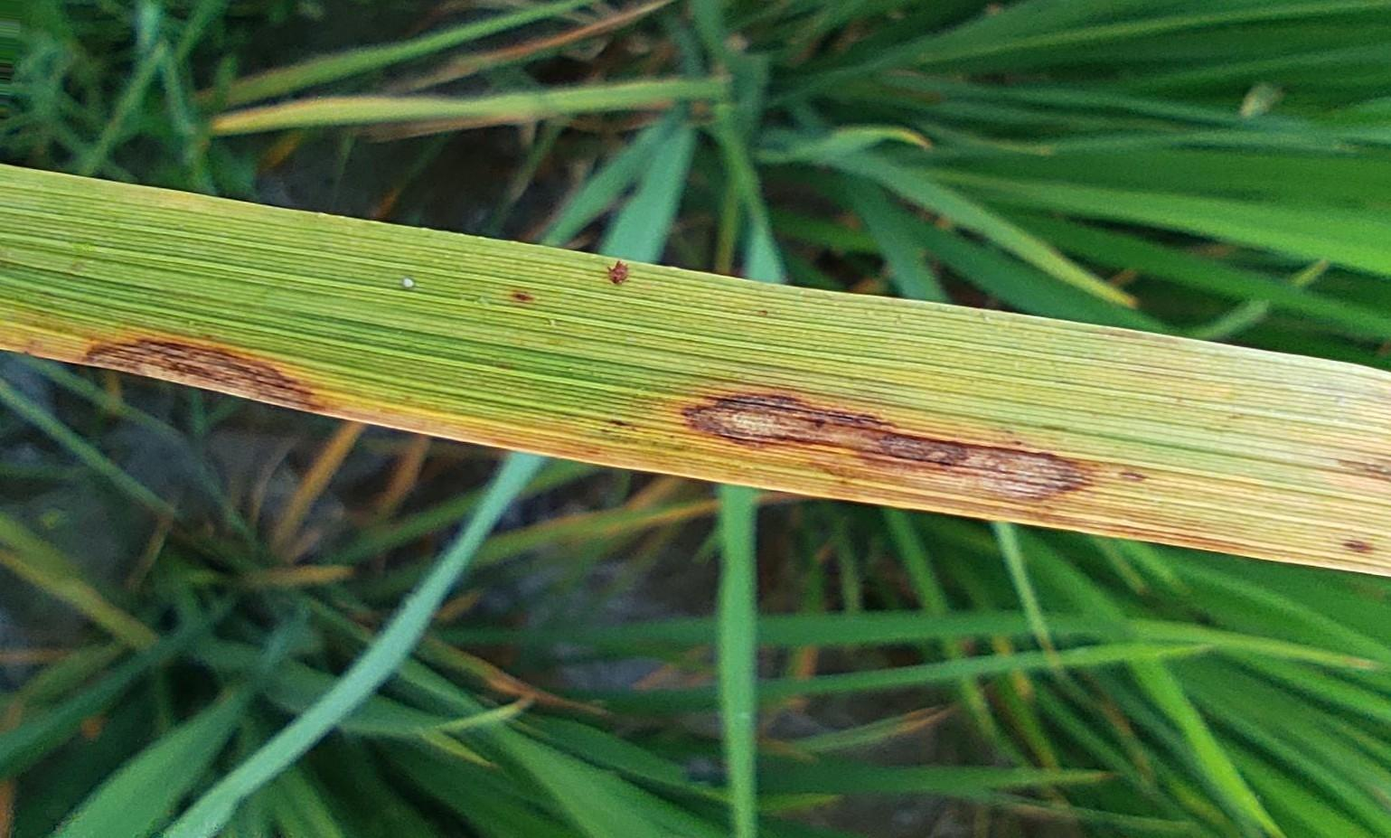LEAF: (0, 165, 1390, 574)
LEAF BLAST: (685, 393, 1086, 499), (83, 337, 318, 409)
